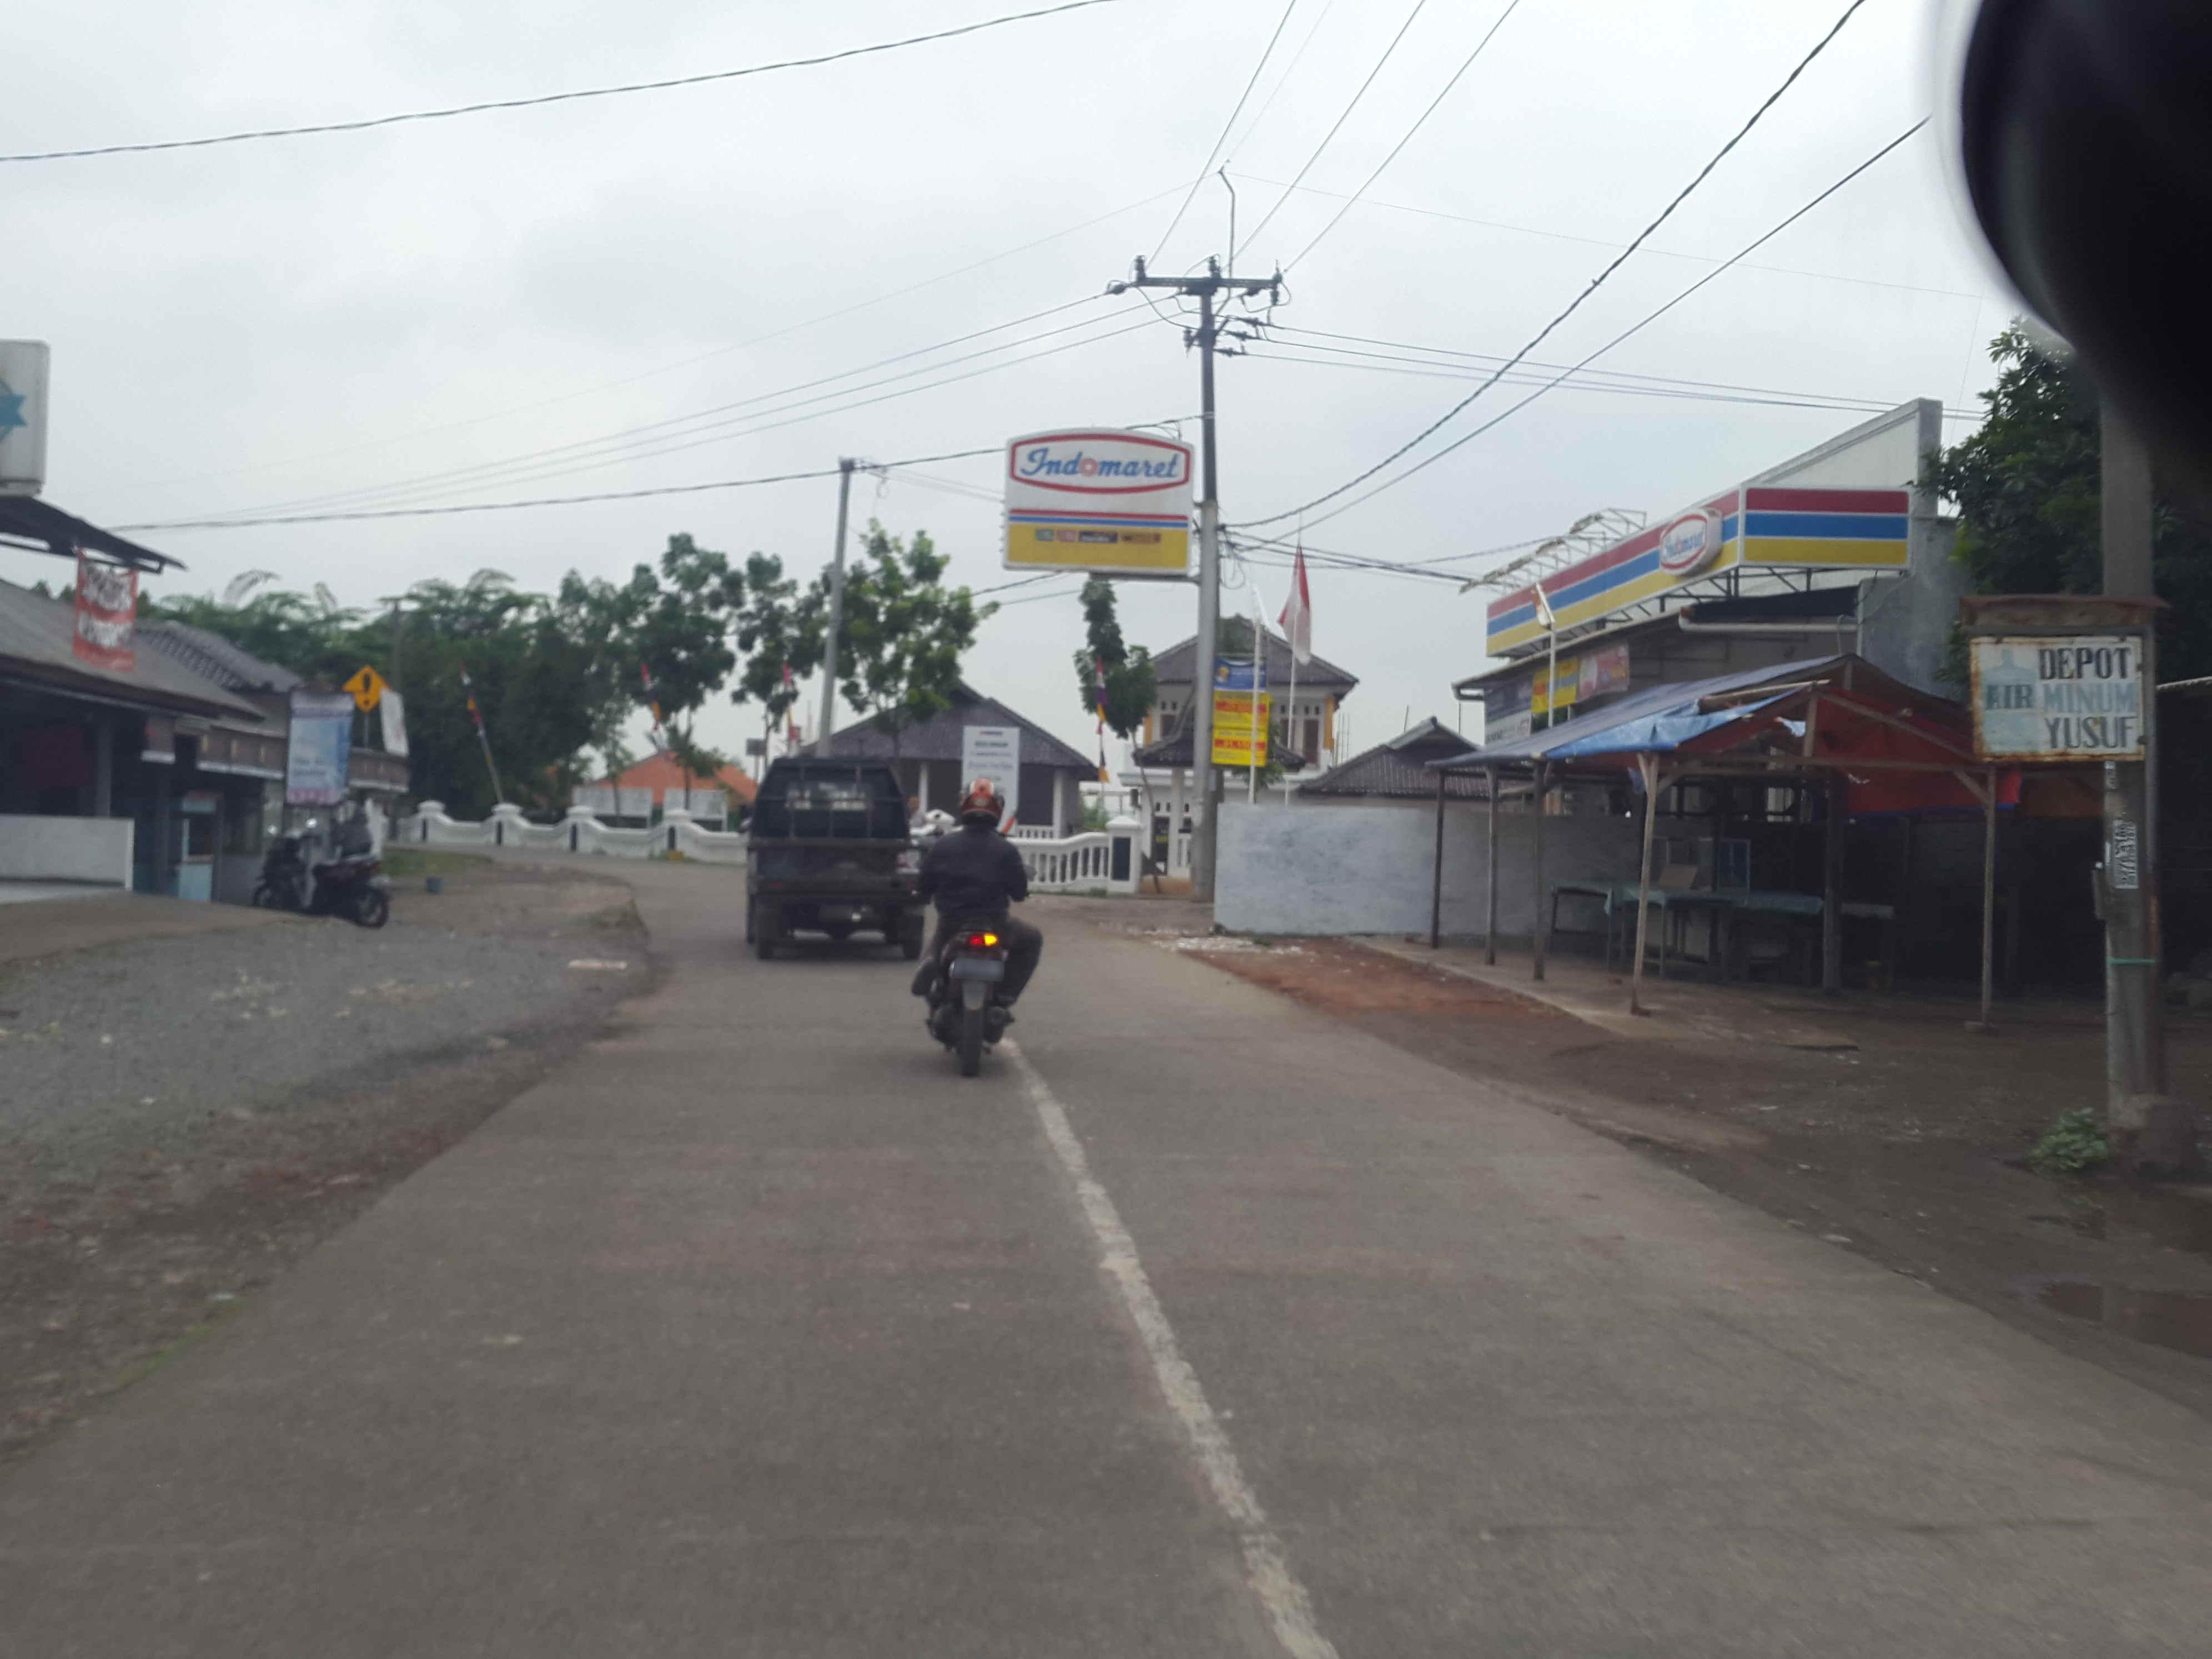vinyl banner: (54, 535, 158, 687)
